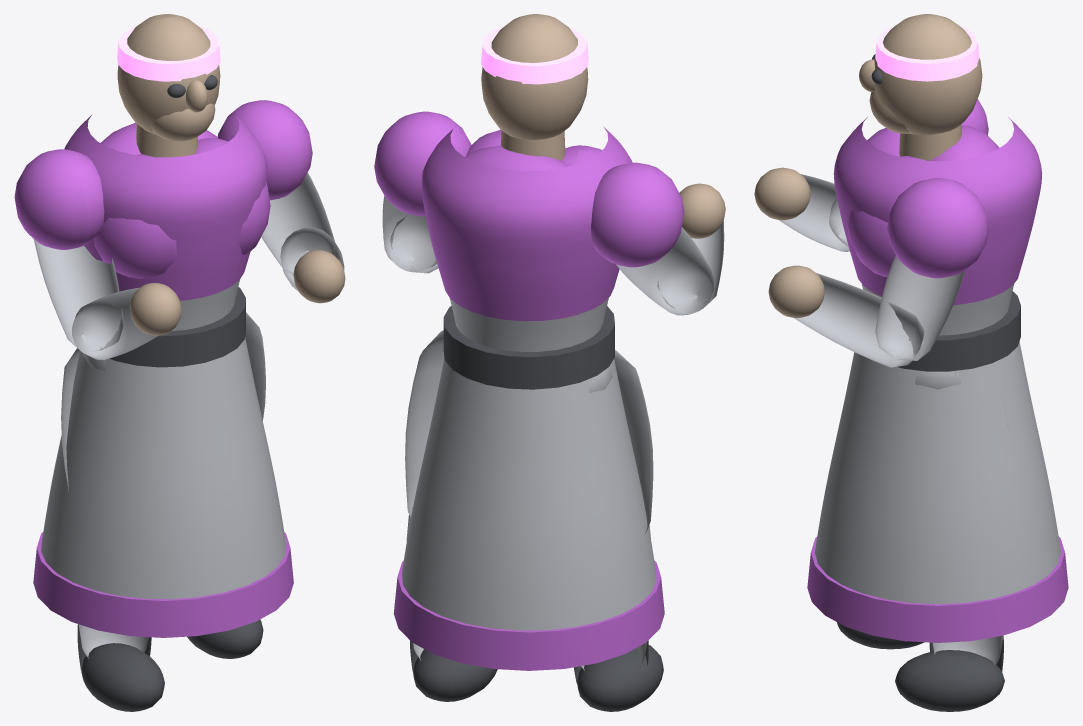
The model's file is yuri.glb.
3 renders of one model, left to right at view 1: azimuth 30°, elevation 25°; view 2: azimuth 150°, elevation 25°; view 3: azimuth 270°, elevation 25°, orthographic. The views are drawn at different scales.
Parts seen in each view (by area): view 1: Hull; view 2: Hull; view 3: Hull.
Boxes of the visible parts, bbox=[...] form: Hull: bbox=[14, 14, 345, 711]; Hull: bbox=[374, 14, 725, 711]; Hull: bbox=[754, 14, 1068, 711].
Size of the model in its own units: 0.4343 by 0.927 by 0.4005.
